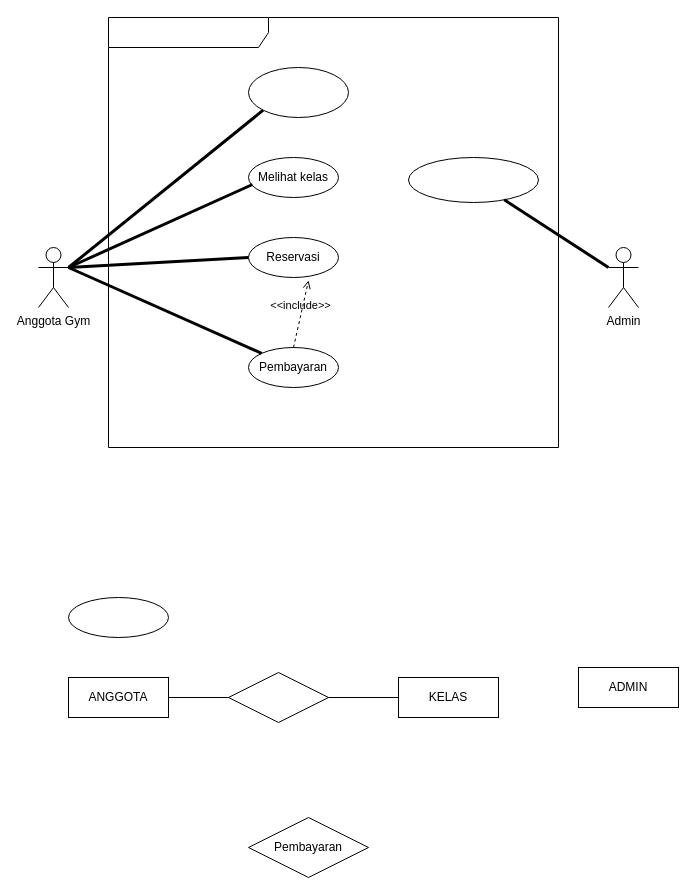
The diagram is 696 pixels wide and 895 high, and some of its shapes have lost their labels. The shapes that lost their labels are listed below. From the top down, each one's box as (x1, y1, x2, y2) in pixels, then its label:
(248, 66, 348, 118): Pendaftaran akun/anggota
(408, 156, 538, 202): Mengelola data Anggota Gym
(108, 16, 558, 448): Osbond
(68, 596, 168, 638): Attribute
(228, 672, 328, 722): reservasi kelas
